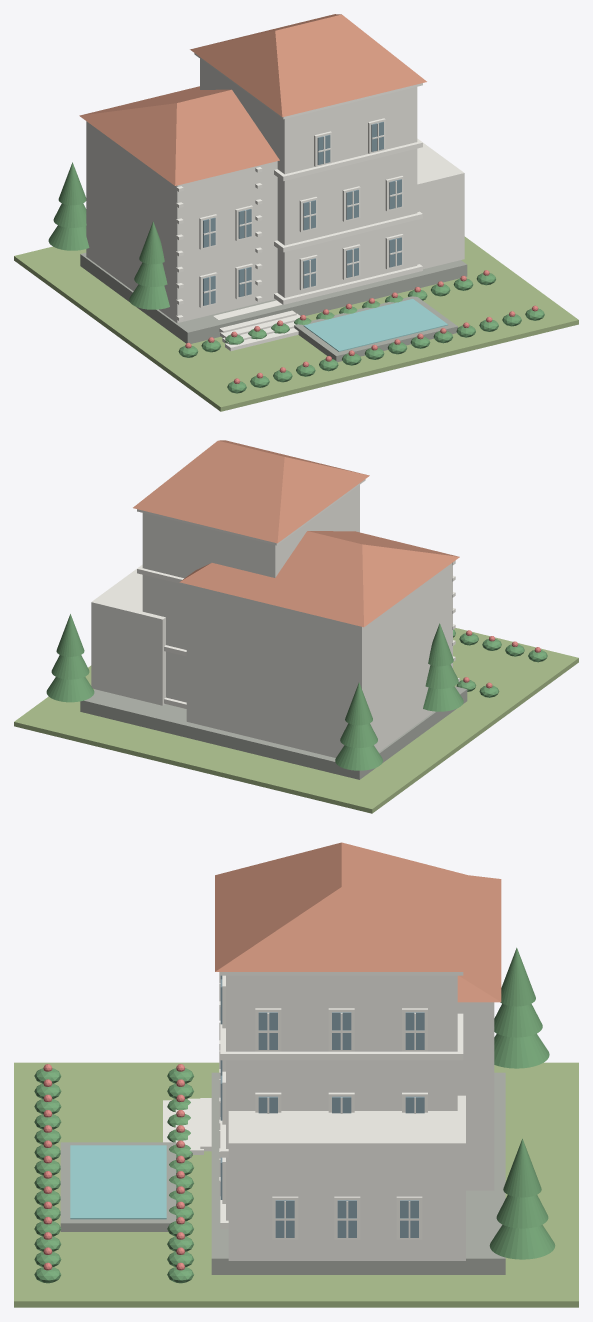
The model's file is ataturk-kosku-prototip.glb.
3 renders of one model, top to bottom at view 1: azimuth 30°, elevation 25°; view 2: azimuth 150°, elevation 25°; view 3: azimuth 270°, elevation 25°, orthographic. The views are drawn at different scales.
Parts seen in each view (by area): view 1: grass_000, plaster_002, plaster_003, terracotta_010, terracotta_009, stone_001, plaster_004, water_141, stone_140, trim_006, trim_005, trim_007 (+8 smaller); view 2: plaster_002, grass_000, terracotta_009, terracotta_010, plaster_003, plaster_004, stone_001, hedge_201, hedge_198, hedge_204, hedge_202, hedge_199 (+5 smaller); view 3: grass_000, plaster_004, terracotta_010, plaster_003, stone_001, water_141, plaster_002, terracotta_009, stone_140, trim_007, hedge_201, hedge_198 (+13 smaller).
Part boxes in pixels (x1,y1,x2,y2): grass_000: (14, 236, 578, 411); plaster_002: (86, 121, 277, 323); plaster_003: (200, 59, 417, 297); terracotta_010: (190, 14, 426, 117); terracotta_009: (79, 86, 279, 185); stone_001: (80, 252, 467, 343); plaster_004: (417, 139, 464, 269); water_141: (303, 299, 447, 351); stone_140: (294, 296, 457, 362); trim_006: (274, 211, 422, 252); trim_005: (274, 264, 422, 304); trim_007: (274, 139, 422, 181); plaster_002: (186, 563, 452, 757); grass_000: (14, 628, 578, 813); terracotta_009: (179, 531, 459, 627); terracotta_010: (133, 440, 369, 543); plaster_003: (142, 485, 359, 702); plaster_004: (91, 565, 165, 705); stone_001: (80, 686, 467, 779); hedge_201: (46, 677, 94, 702); hedge_198: (335, 745, 382, 770); hedge_204: (423, 686, 463, 711); hedge_202: (51, 655, 89, 679); hedge_199: (340, 723, 377, 747); grass_000: (14, 1062, 578, 1307); plaster_004: (228, 1095, 465, 1260); terracotta_010: (215, 842, 468, 971); plaster_003: (226, 975, 457, 1220); stone_001: (211, 1072, 505, 1274); water_141: (70, 1145, 166, 1219); plaster_002: (457, 1002, 494, 1190); terracotta_009: (457, 875, 501, 1002); stone_140: (60, 1142, 176, 1231); trim_007: (220, 1013, 463, 1060); hedge_201: (489, 1224, 555, 1259); hedge_198: (494, 1033, 549, 1068).
Bounding box in the file's own units: 10 × 6.69 × 10.
